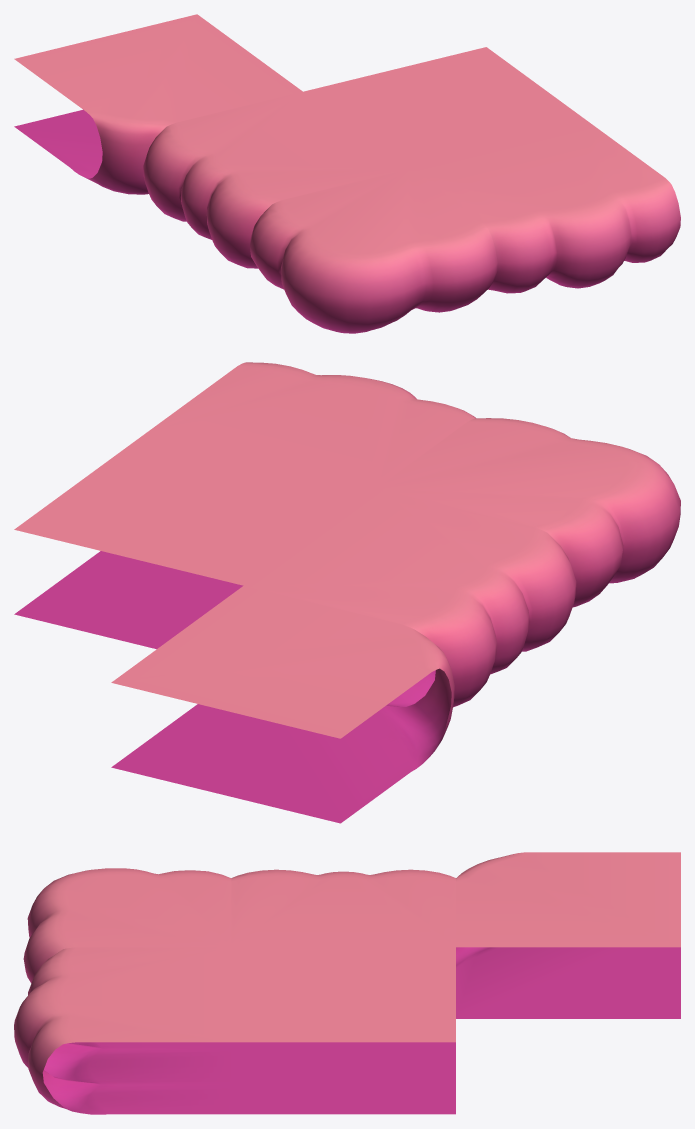
The model's file is cloud_kit.glb.
3 views of the same model, one above another, from view 1: azimuth 30°, elevation 25°; view 2: azimuth 150°, elevation 25°; view 3: azimuth 270°, elevation 25° (orthographic). The views are drawn at different scales.
Parts seen in each view (by area): view 1: cloud_corner, cloud_middle, cloud_innercorner, cloud_middle2, cloud_center; view 2: cloud_innercorner, cloud_center, cloud_middle2, cloud_corner, cloud_middle; view 3: cloud_center, cloud_innercorner, cloud_middle, cloud_middle2, cloud_corner.
Boxes of the visible parts, x1=… form: cloud_corner: x1=249, y1=169, x2=497, y2=333; cloud_middle: x1=409, y1=124, x2=680, y2=293; cloud_innercorner: x1=14, y1=14, x2=302, y2=194; cloud_middle2: x1=143, y1=92, x2=408, y2=268; cloud_center: x1=303, y1=47, x2=591, y2=168; cloud_innercorner: x1=111, y1=586, x2=454, y2=823; cloud_center: x1=14, y1=432, x2=375, y2=649; cloud_middle2: x1=244, y1=488, x2=576, y2=707; cloud_corner: x1=376, y1=418, x2=680, y2=607; cloud_middle: x1=147, y1=362, x2=475, y2=488; cloud_center: x1=231, y1=947, x2=455, y2=1114; cloud_innercorner: x1=456, y1=852, x2=680, y2=1018; cloud_middle: x1=14, y1=947, x2=231, y2=1114; cloud_middle2: x1=231, y1=869, x2=455, y2=947; cloud_corner: x1=23, y1=868, x2=231, y2=983.
Size of the model in its own units: 4 by 0.8586 by 5.93.
Materials: 1 (1 with a texture image).
